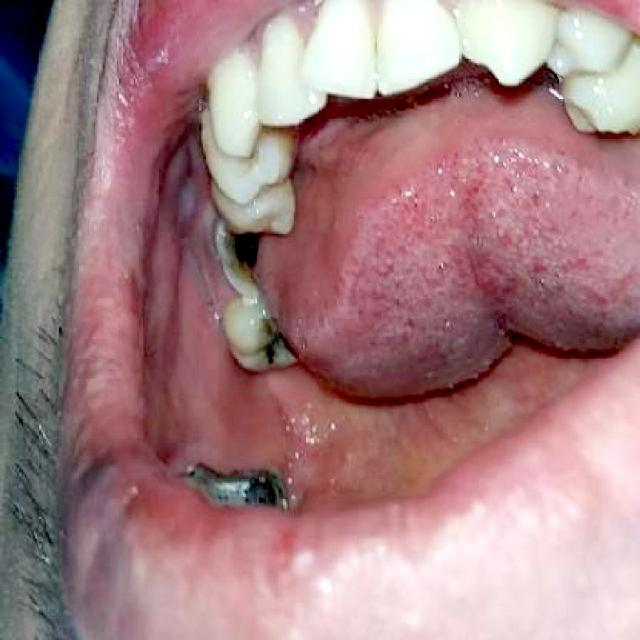Plaque: (249, 311, 292, 366), (223, 225, 260, 285)
